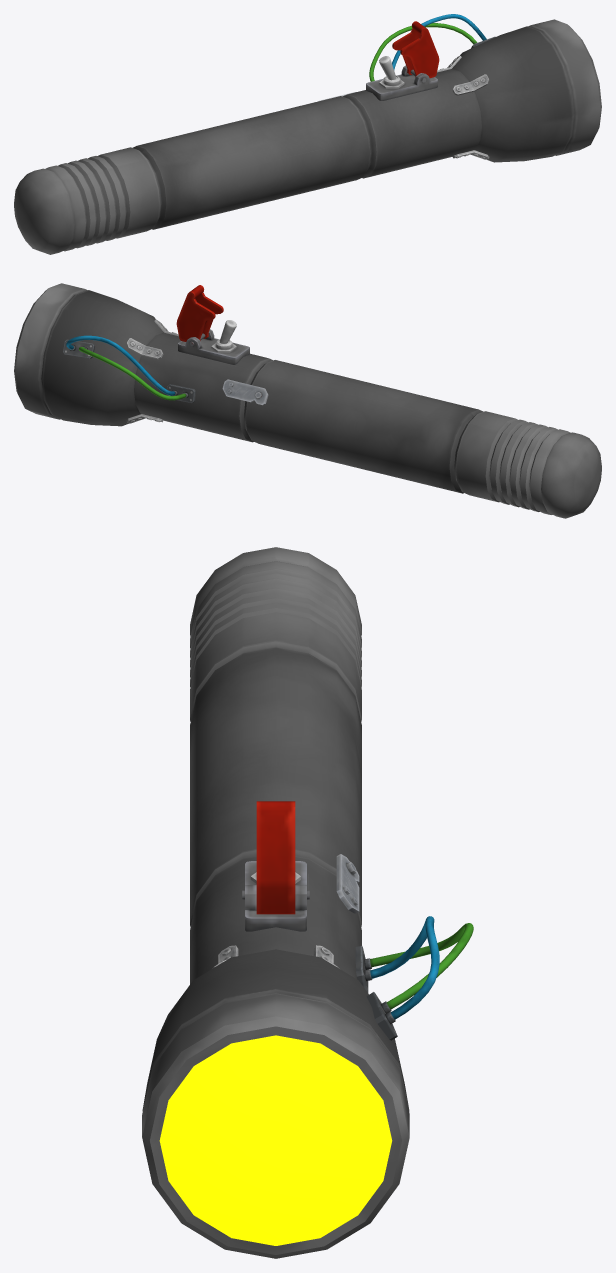
File: DeviousLickTorch.gltf
3 views of the same model, one above another, from view 1: azimuth 30°, elevation 25°; view 2: azimuth 150°, elevation 25°; view 3: azimuth 270°, elevation 25° (orthographic). The views are drawn at different scales.
Visible parts, largest first — view 1: Cylinder.003, on switch.001, on switch, Cylinder.002, BezierCurve.001, on switch.002, BezierCurve; view 2: Cylinder.003, on switch.001, on switch, Cylinder.001, Cube, Cylinder.002, BezierCurve, BezierCurve.001, on switch.002; view 3: Cylinder.003, glass, on switch.001, on switch, BezierCurve, BezierCurve.001, Cube, Cylinder.001.
Part boxes in pixels (x1,y1,x2,y2): Cylinder.003: [14, 19, 601, 254]; on switch.001: [392, 21, 439, 78]; on switch: [366, 65, 437, 100]; Cylinder.002: [437, 55, 489, 159]; BezierCurve.001: [369, 23, 476, 81]; on switch.002: [379, 56, 404, 88]; BezierCurve: [392, 14, 486, 70]; Cylinder.003: [14, 283, 601, 518]; on switch.001: [176, 285, 223, 341]; on switch: [178, 329, 249, 364]; Cylinder.001: [222, 379, 268, 405]; Cube: [63, 339, 195, 402]; Cylinder.002: [126, 319, 178, 423]; BezierCurve: [66, 335, 175, 395]; BezierCurve.001: [79, 347, 186, 400]; on switch.002: [211, 320, 236, 352]; Cylinder.003: [142, 547, 409, 1258]; glass: [159, 1035, 392, 1245]; on switch.001: [256, 801, 295, 914]; on switch: [242, 861, 309, 931]; BezierCurve: [370, 916, 439, 1019]; BezierCurve.001: [370, 923, 473, 1009]; Cube: [355, 946, 397, 1040]; Cylinder.001: [336, 854, 359, 913].
Bounding box in the file's own units: 14.93 × 4.02 × 3.86.
2 materials, 1 textured.
